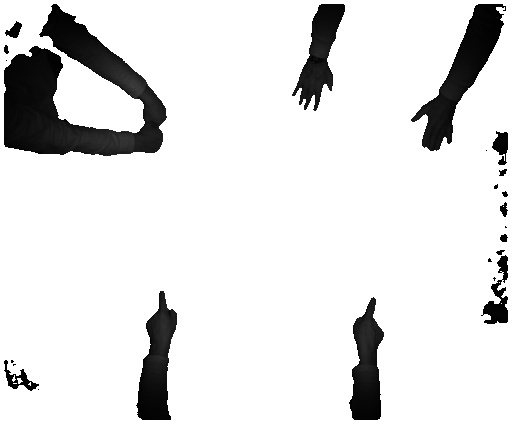fist: (138, 128, 167, 159), (143, 100, 167, 130)
hand: (408, 100, 457, 151), (144, 289, 183, 351), (288, 63, 335, 111), (352, 296, 383, 358)
